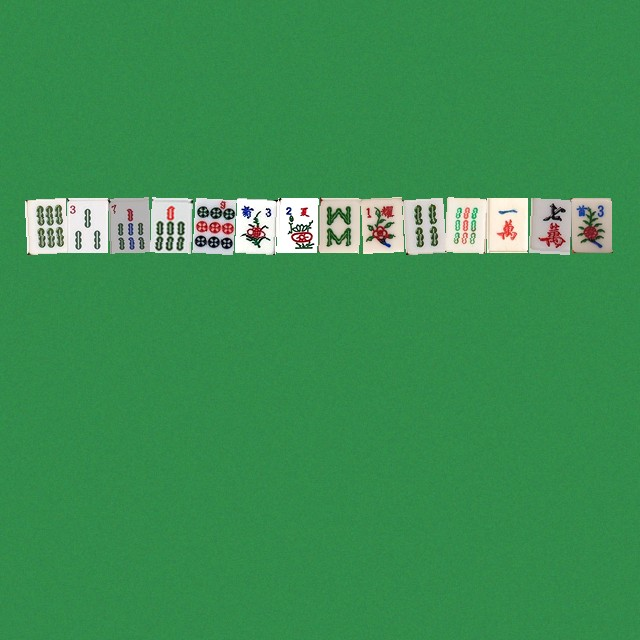tile: (24, 197, 65, 252), (66, 197, 107, 252), (108, 197, 149, 252), (150, 197, 191, 252), (192, 197, 233, 252), (234, 197, 275, 252), (276, 197, 317, 252), (318, 197, 359, 252), (360, 197, 401, 252), (402, 197, 443, 252), (444, 197, 485, 252), (486, 197, 527, 252), (528, 197, 569, 252), (570, 197, 611, 252)
